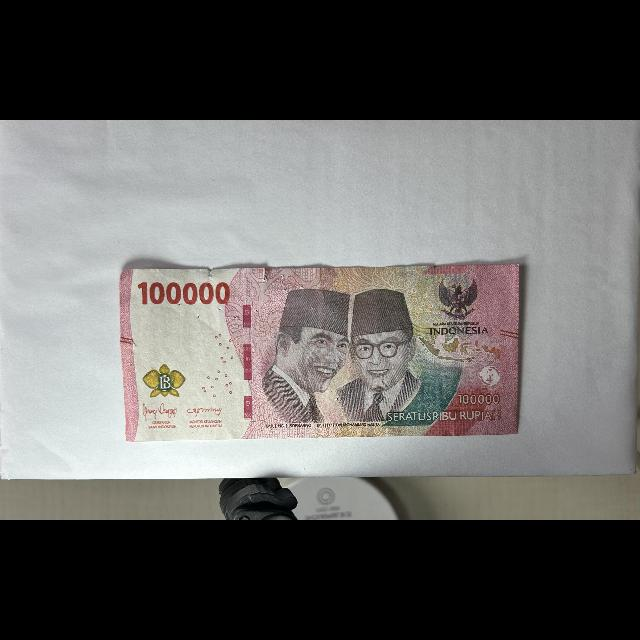Palsu-100k: (119, 263, 521, 441)
Tinta-Palsu-100k: (142, 363, 187, 398)
